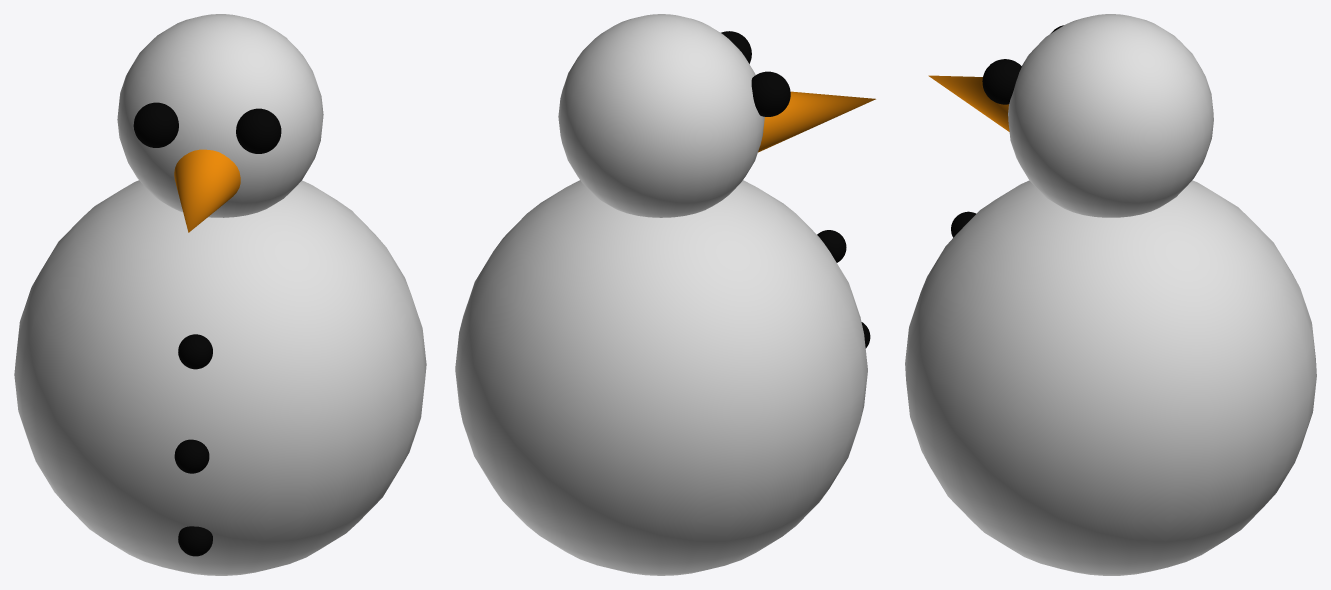
The model's file is SnowDawg.glb.
3 renders of one model, left to right at view 1: azimuth 30°, elevation 25°; view 2: azimuth 150°, elevation 25°; view 3: azimuth 270°, elevation 25°, orthographic.
Parts seen in each view (by area): view 1: SnowDawg; view 2: SnowDawg; view 3: SnowDawg.
Boxes of the visible parts, x1,y1,x2,y2 form: SnowDawg: (14, 14, 426, 575); SnowDawg: (455, 14, 875, 575); SnowDawg: (905, 14, 1316, 575).
Bounding box in the file's own units: 0.1026 × 0.1465 × 0.1026.
